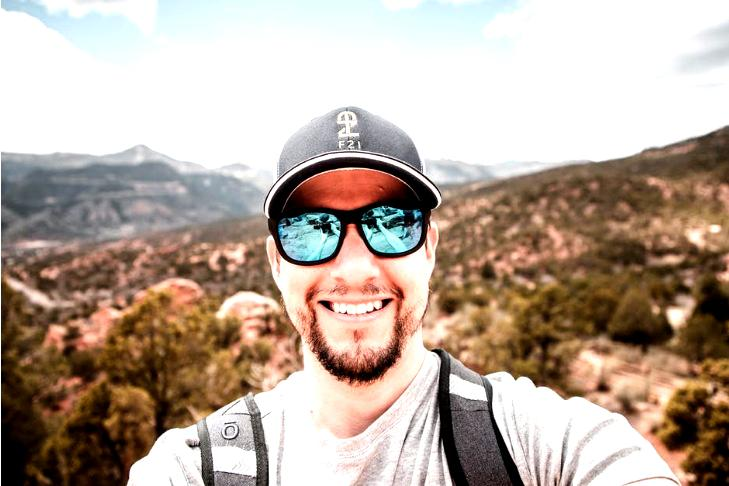face: (278, 168, 426, 380)
